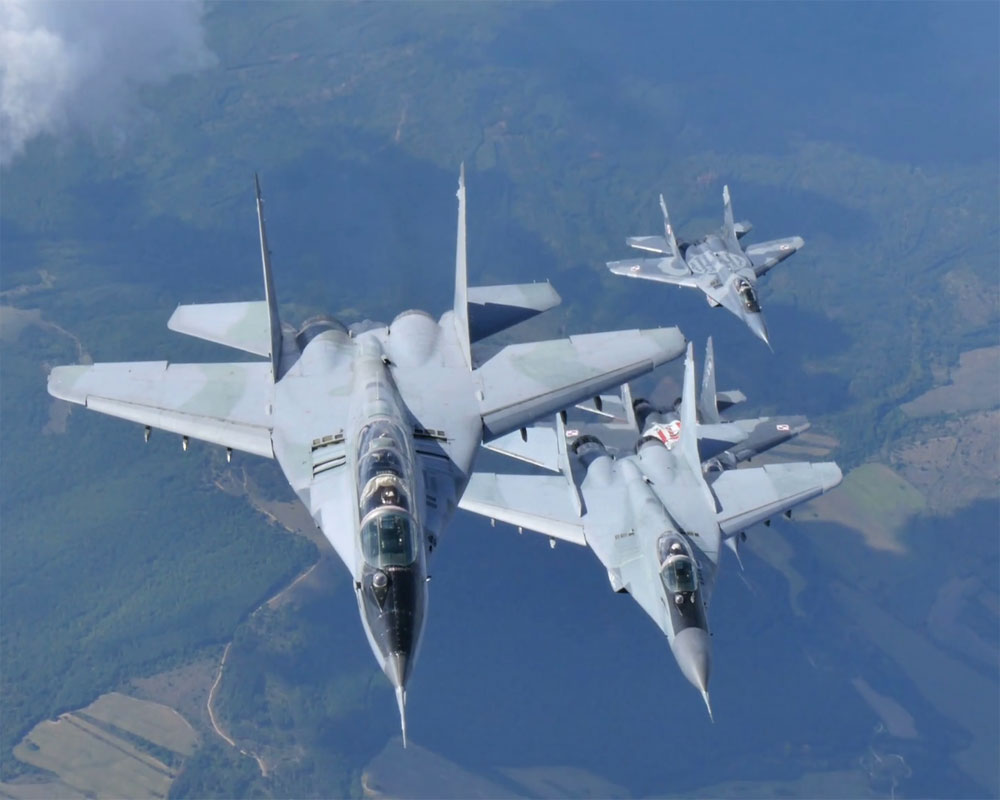Mig-29: (43, 159, 645, 693), (528, 429, 810, 707), (628, 193, 805, 360)
